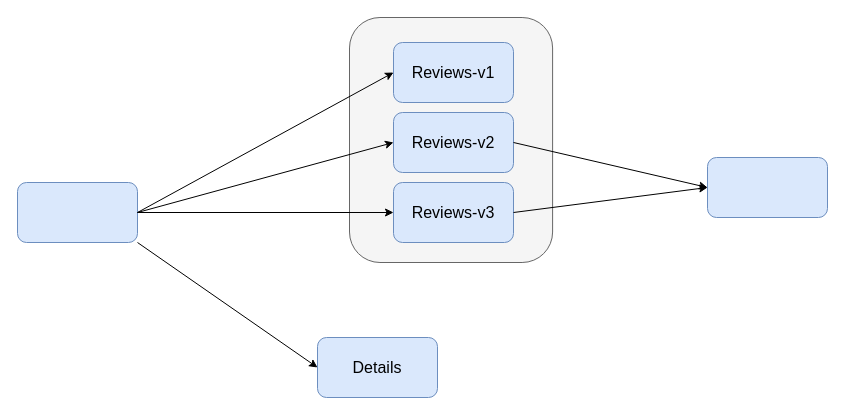
Image size: 845x415. Some labels were removed from this diagram. The shapes that lost their labels are listed below. From the top down, each one's box as (x1, y1, x2, y2) in pixels, then its label:
(706, 156, 828, 218): Ratings
(16, 182, 138, 242): Product Page
